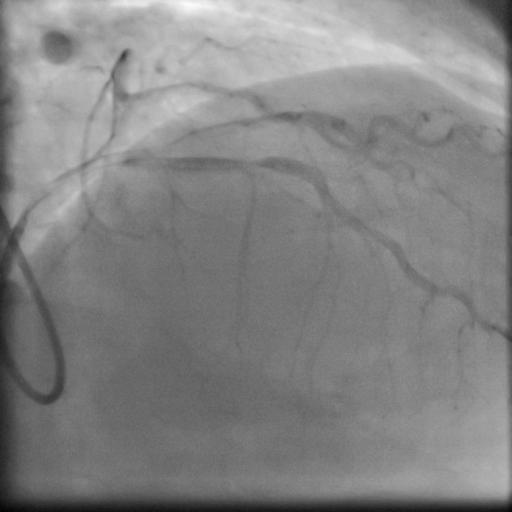Stenosis: (234, 152, 266, 177)
